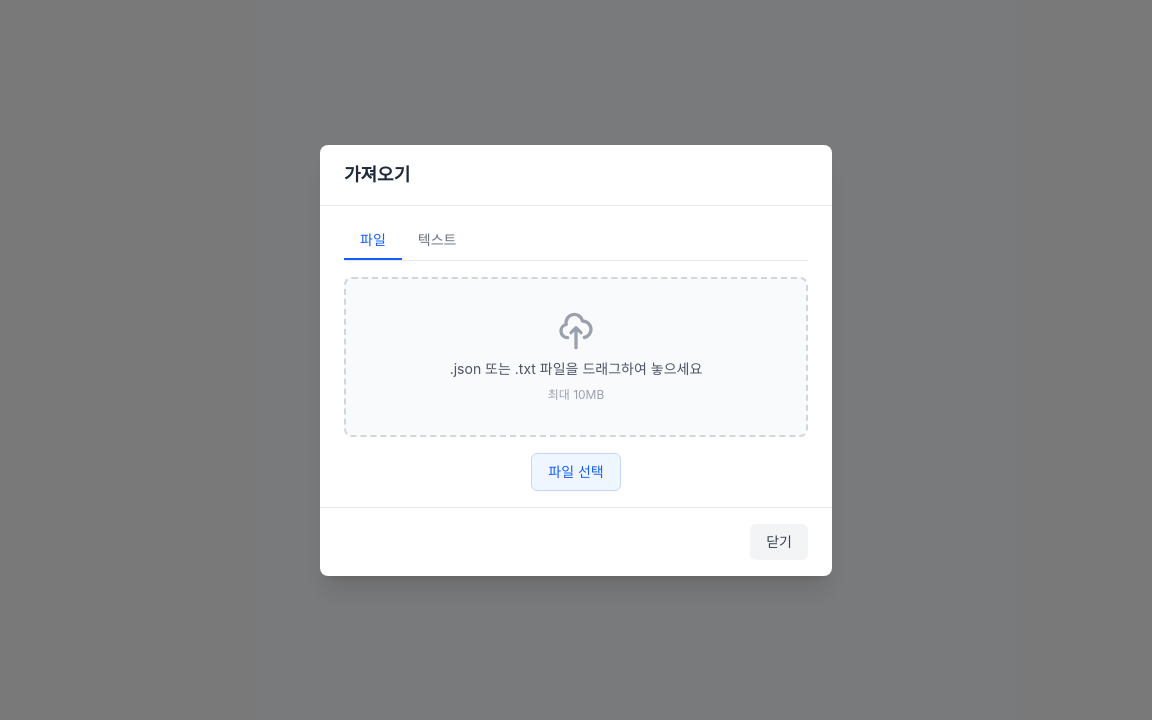
ImportPanel › 탭 전환 동작 › "텍스트" 탭 클릭 시 텍스트 입력 영역이 표시된다
Click the button "텍스트" at [437, 240], box 402,222 -> 472,260
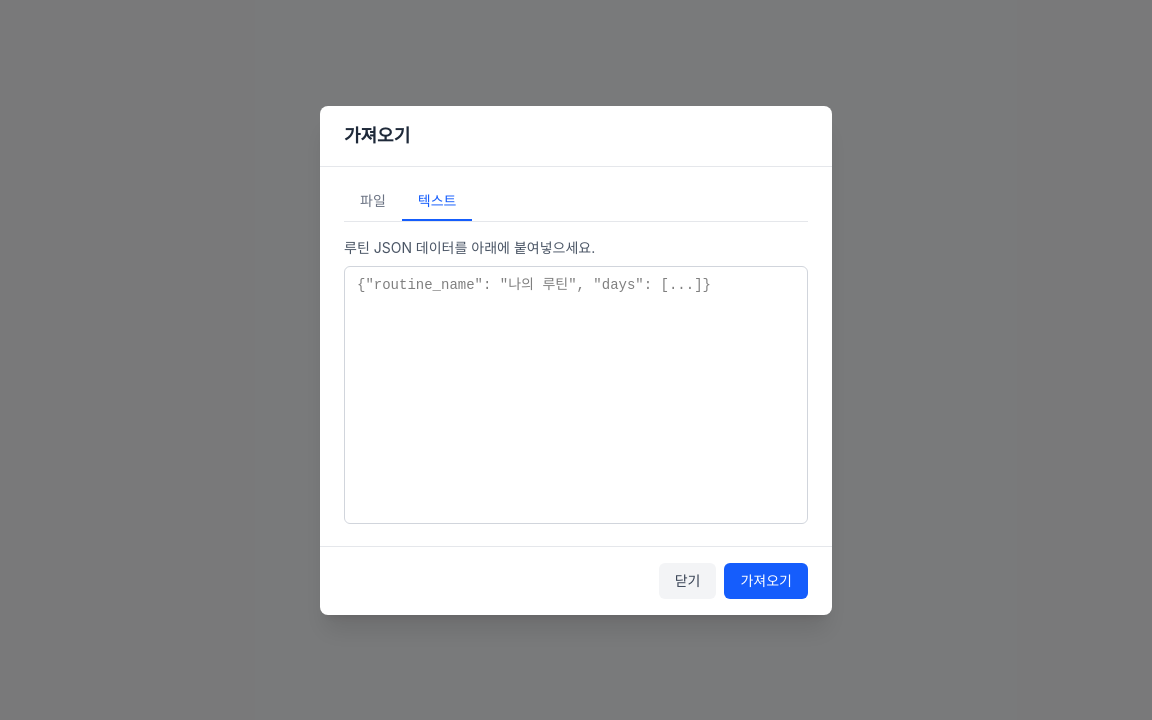
Expected: the text "루틴 JSON 데이터를 아래에 붙여넣으세요." is shown, 344,238 -> 595,256
